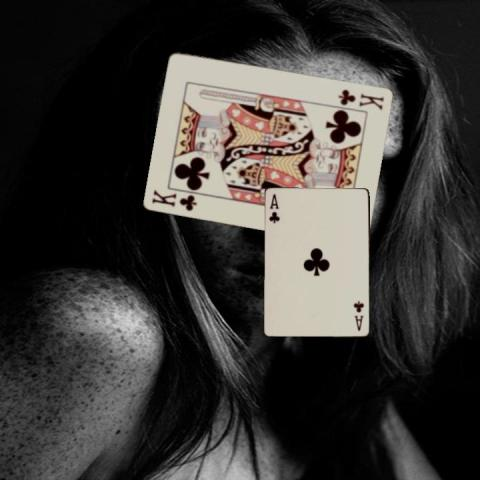Ac: (266, 191, 281, 225), (352, 298, 365, 332)
Kc: (336, 86, 386, 111), (149, 187, 199, 212)
